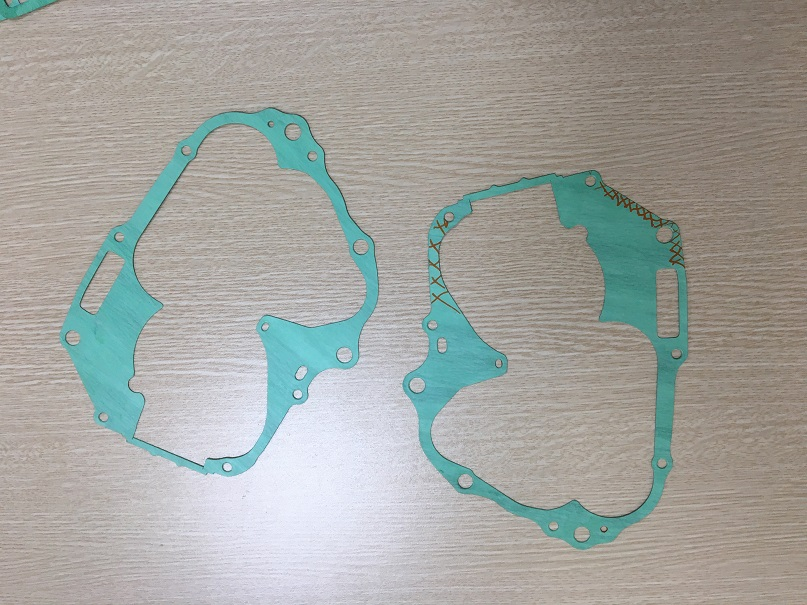type3: (53, 105, 395, 484), (410, 169, 697, 558)
